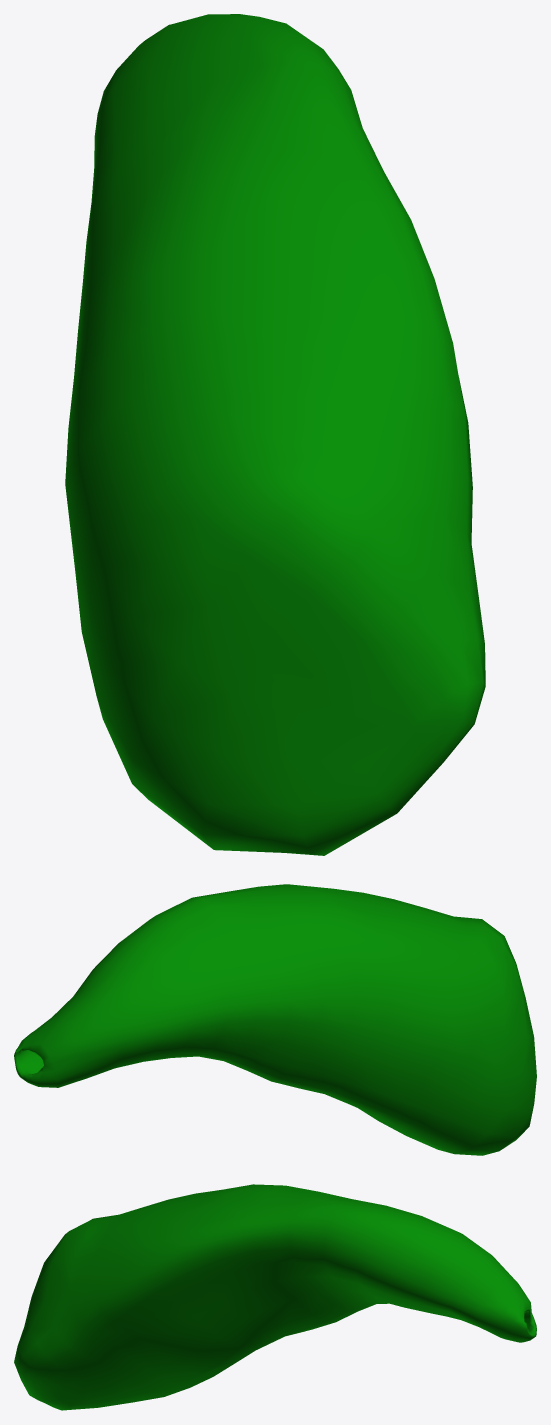
Rendered from VH_M_Gallbladder.glb.
The picture shows the model from 3 angles, top to bottom: view 1: azimuth 30°, elevation 25°; view 2: azimuth 150°, elevation 25°; view 3: azimuth 270°, elevation 25°; orthographic projection. The views are drawn at different scales.
Visible parts, largest first — view 1: VH_M_gallbladder; view 2: VH_M_gallbladder; view 3: VH_M_gallbladder.
Boxes of the visible parts, bbox=[...] form: VH_M_gallbladder: bbox=[65, 14, 485, 855]; VH_M_gallbladder: bbox=[14, 884, 536, 1155]; VH_M_gallbladder: bbox=[14, 1184, 536, 1410].
Bounding box in the file's own units: 0.0424 × 0.0417 × 0.0728.
